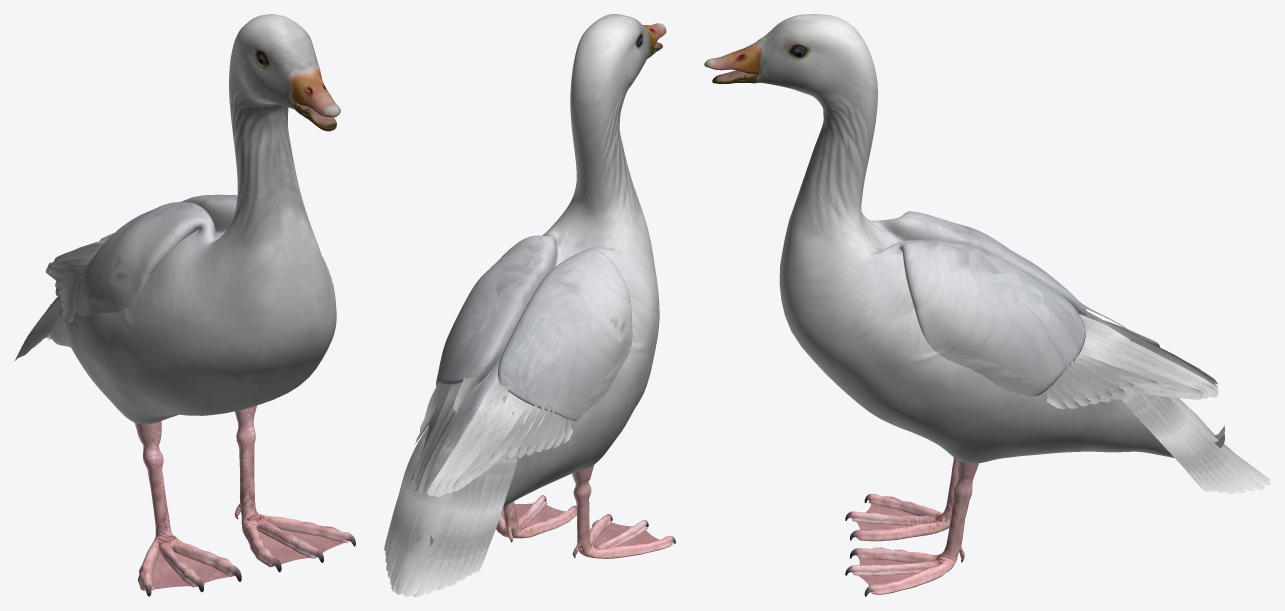
Rendered from goose.obj.
The picture shows the model from 3 angles, left to right: view 1: azimuth 30°, elevation 25°; view 2: azimuth 150°, elevation 25°; view 3: azimuth 270°, elevation 25°; orthographic projection. The views are drawn at different scales.
Visible parts, largest first — view 1: Model001_5_Goose_0.1_0_0; view 2: Model001_5_Goose_0.1_0_0; view 3: Model001_5_Goose_0.1_0_0.
Part boxes in pixels (x1,y1,x2,y2): Model001_5_Goose_0.1_0_0: [15, 14, 355, 596]; Model001_5_Goose_0.1_0_0: [384, 14, 675, 596]; Model001_5_Goose_0.1_0_0: [704, 14, 1270, 596].
Size of the model in its own units: 0.5058 by 1.31 by 1.27.
